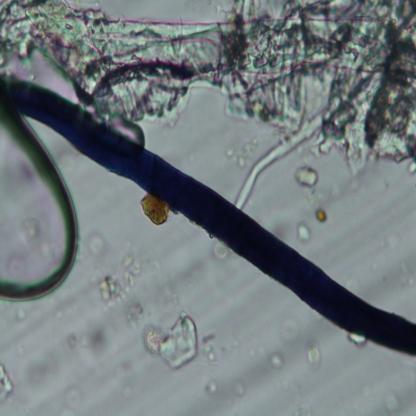Air bubble: (0, 107, 85, 302)
Background material: (0, 1, 416, 155), (136, 311, 204, 368), (94, 253, 141, 313), (63, 320, 117, 364), (25, 342, 65, 396), (219, 128, 259, 175), (86, 230, 115, 264), (200, 330, 227, 364), (141, 198, 170, 226), (0, 362, 16, 404), (297, 160, 319, 190), (268, 340, 286, 372), (208, 239, 232, 262), (66, 388, 86, 414), (347, 329, 367, 354), (305, 338, 321, 368), (228, 377, 247, 402), (294, 221, 314, 244), (316, 206, 329, 224), (205, 377, 217, 394)
Cotton: (0, 74, 416, 357)
